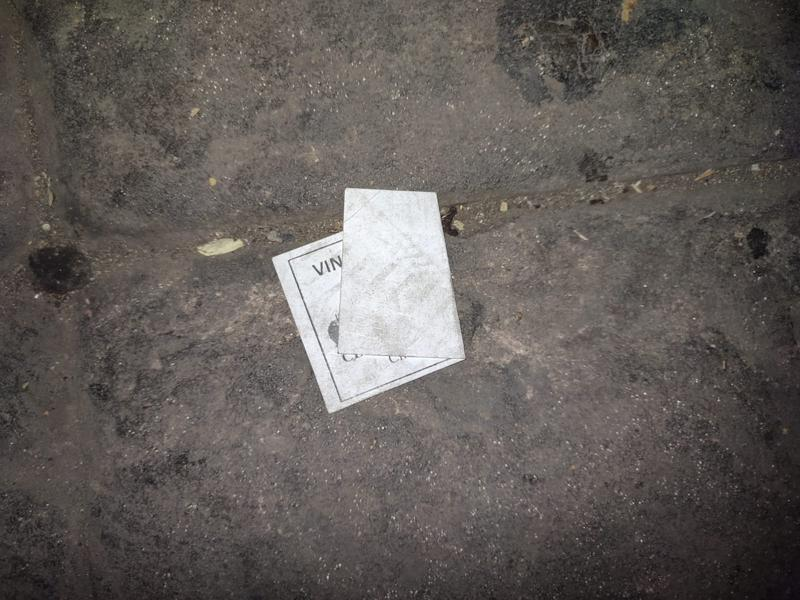papel: (278, 188, 466, 412)
